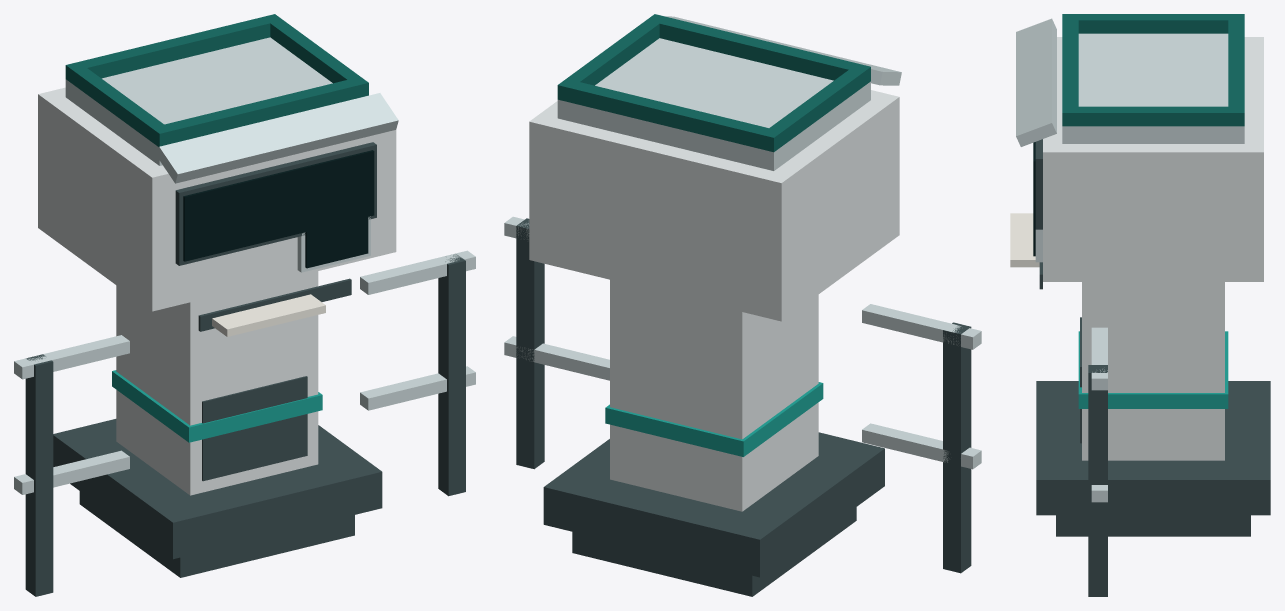
The model's file is station_verifier.obj.
3 renders of one model, left to right at view 1: azimuth 30°, elevation 25°; view 2: azimuth 150°, elevation 25°; view 3: azimuth 270°, elevation 25°, orthographic. The views are drawn at different scales.
Parts seen in each view (by area): view 1: station_verifier_e04, station_verifier_e02, station_verifier_e01, station_verifier_e07, station_verifier_e05, station_verifier_e13, station_verifier_e23, station_verifier_e17, station_verifier_e18, station_verifier_e00, station_verifier_e12, station_verifier_e14 (+12 smaller); view 2: station_verifier_e04, station_verifier_e02, station_verifier_e01, station_verifier_e05, station_verifier_e17, station_verifier_e18, station_verifier_e00, station_verifier_e14, station_verifier_e12, station_verifier_e03, station_verifier_e19, station_verifier_e15 (+4 smaller); view 3: station_verifier_e04, station_verifier_e02, station_verifier_e01, station_verifier_e05, station_verifier_e13, station_verifier_e18, station_verifier_e00, station_verifier_e16, station_verifier_e15, station_verifier_e03, station_verifier_e12, station_verifier_e14 (+3 smaller).
Part boxes in pixels (x1,y1,x2,y2): station_verifier_e04: [38, 87, 396, 311]; station_verifier_e02: [116, 271, 318, 495]; station_verifier_e01: [53, 419, 382, 559]; station_verifier_e07: [183, 150, 374, 261]; station_verifier_e05: [65, 37, 332, 165]; station_verifier_e13: [156, 93, 398, 183]; station_verifier_e23: [202, 376, 307, 481]; station_verifier_e17: [25, 354, 53, 596]; station_verifier_e18: [438, 254, 465, 496]; station_verifier_e00: [79, 491, 354, 577]; station_verifier_e12: [151, 76, 368, 146]; station_verifier_e14: [65, 14, 282, 84]; station_verifier_e04: [529, 90, 899, 321]; station_verifier_e02: [610, 280, 818, 511]; station_verifier_e01: [543, 432, 884, 577]; station_verifier_e05: [557, 38, 870, 170]; station_verifier_e17: [943, 322, 971, 573]; station_verifier_e18: [516, 218, 544, 469]; station_verifier_e00: [572, 507, 856, 596]; station_verifier_e14: [557, 79, 782, 152]; station_verifier_e12: [646, 14, 870, 87]; station_verifier_e03: [605, 382, 823, 456]; station_verifier_e19: [862, 304, 981, 349]; station_verifier_e15: [769, 70, 862, 145]; station_verifier_e04: [1043, 37, 1263, 281]; station_verifier_e02: [1082, 282, 1224, 460]; station_verifier_e01: [1036, 381, 1270, 515]; station_verifier_e05: [1062, 33, 1244, 143]; station_verifier_e13: [1016, 18, 1056, 146]; station_verifier_e18: [1088, 365, 1107, 596]; station_verifier_e00: [1056, 515, 1250, 536]; station_verifier_e16: [1078, 106, 1228, 126]; station_verifier_e15: [1078, 14, 1228, 33]; station_verifier_e03: [1078, 331, 1228, 408]; station_verifier_e12: [1062, 14, 1078, 126]; station_verifier_e14: [1228, 14, 1244, 126].
Bounding box in the file's own units: 0.975 × 0.9162 × 0.5.
